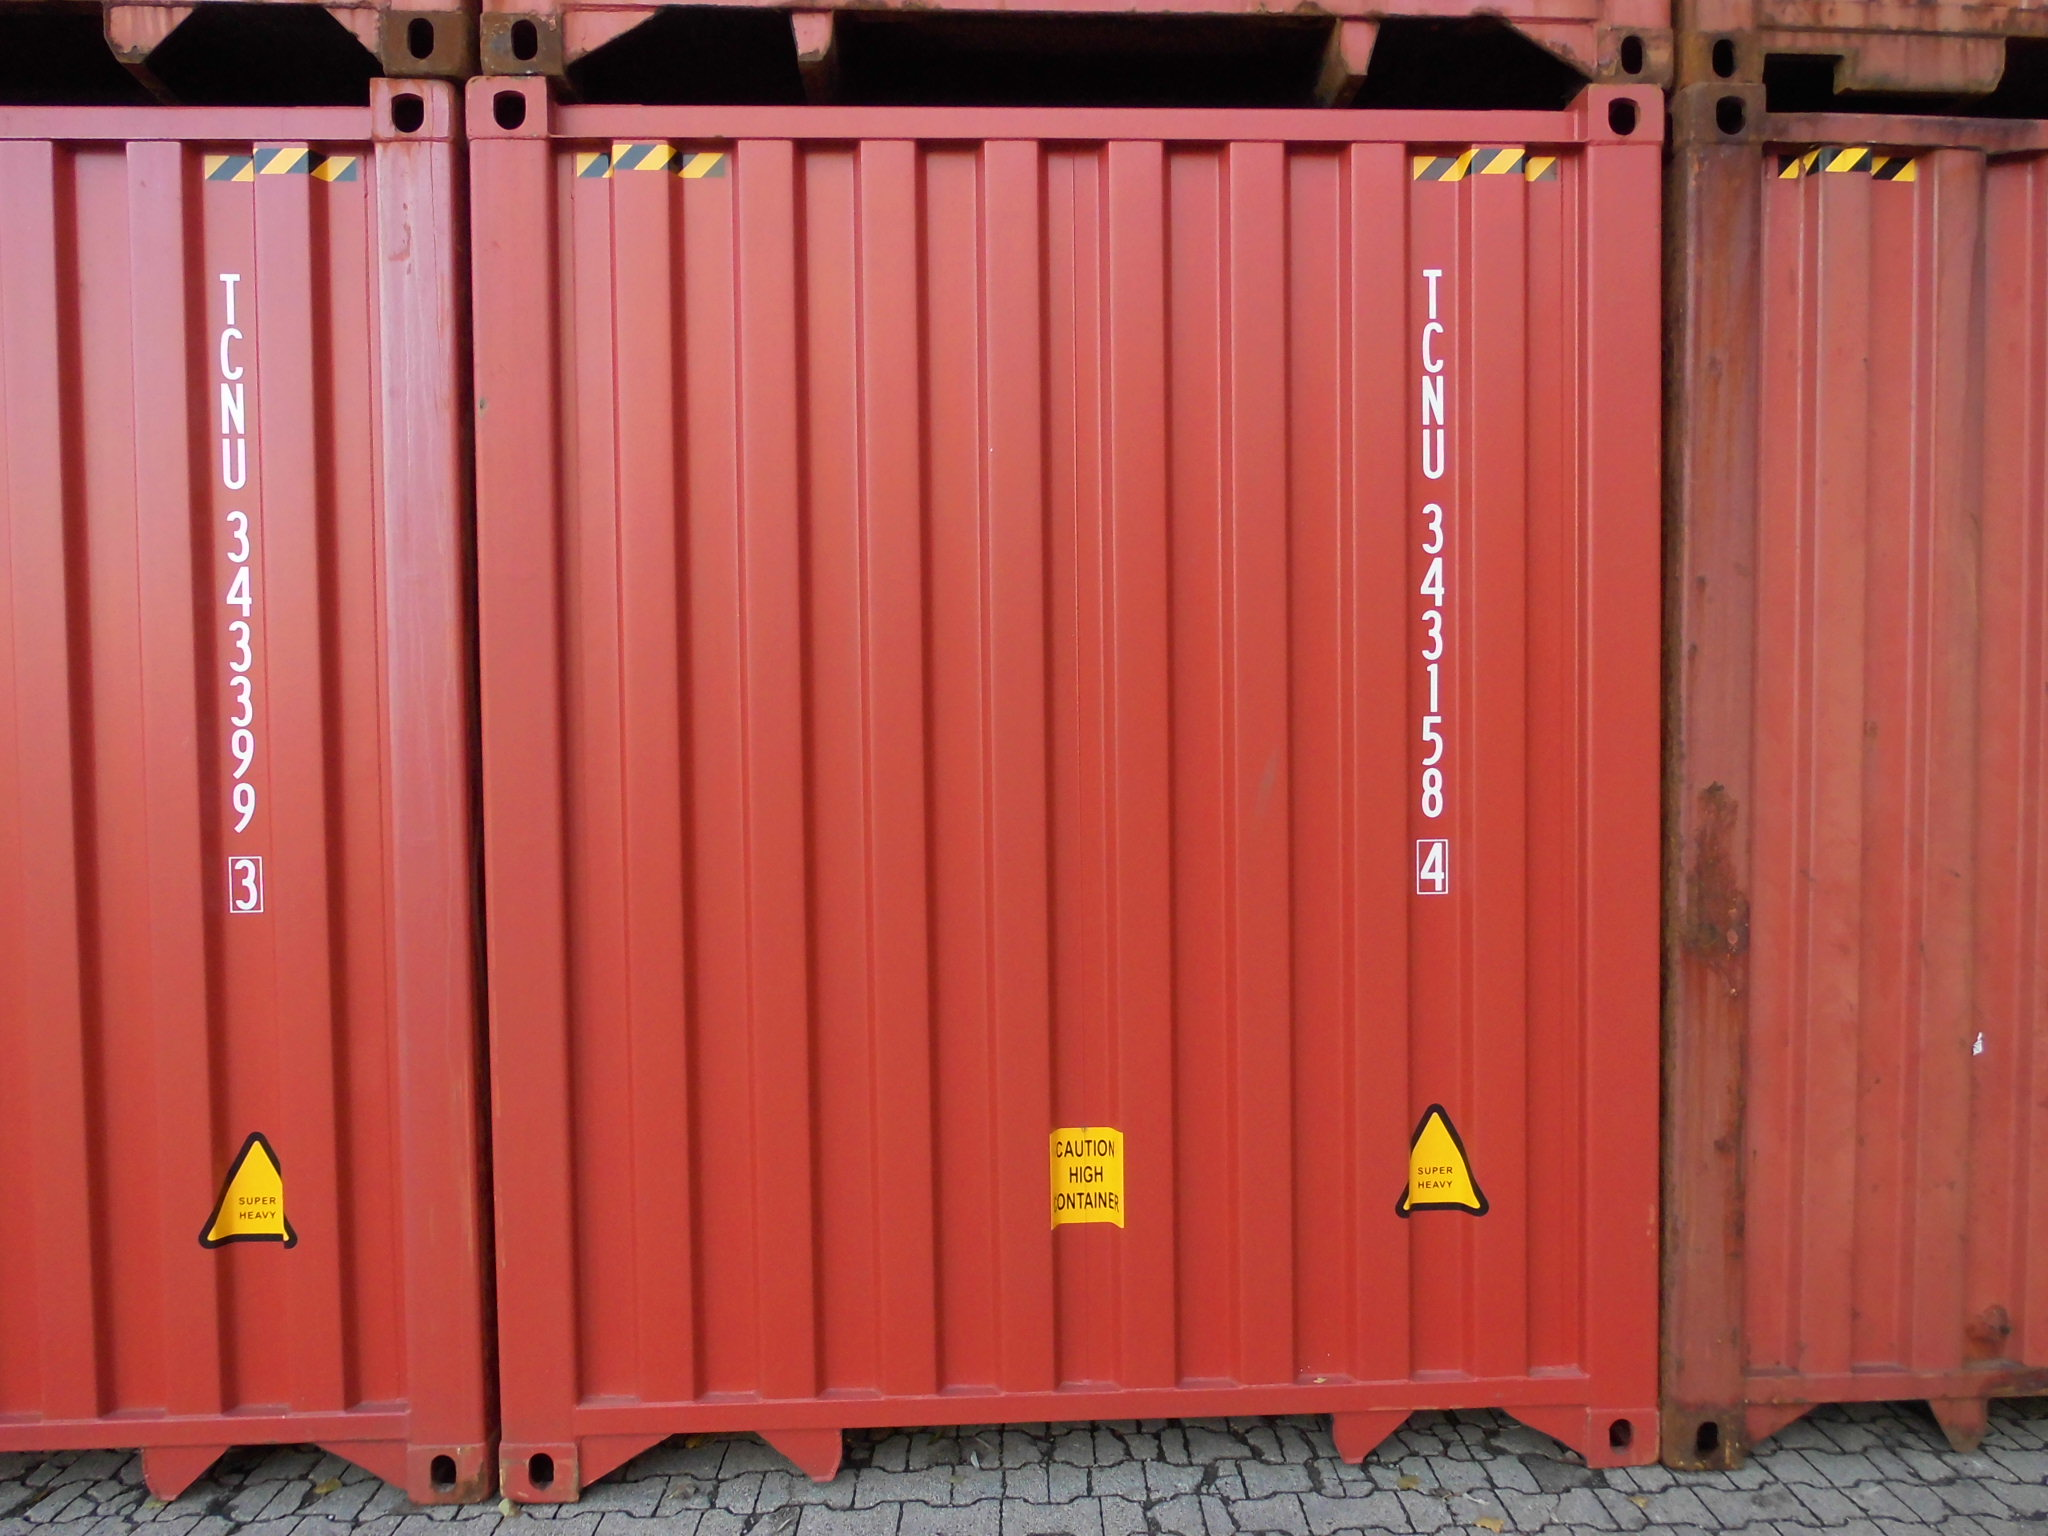container_no_door: (468, 71, 1646, 1489)
